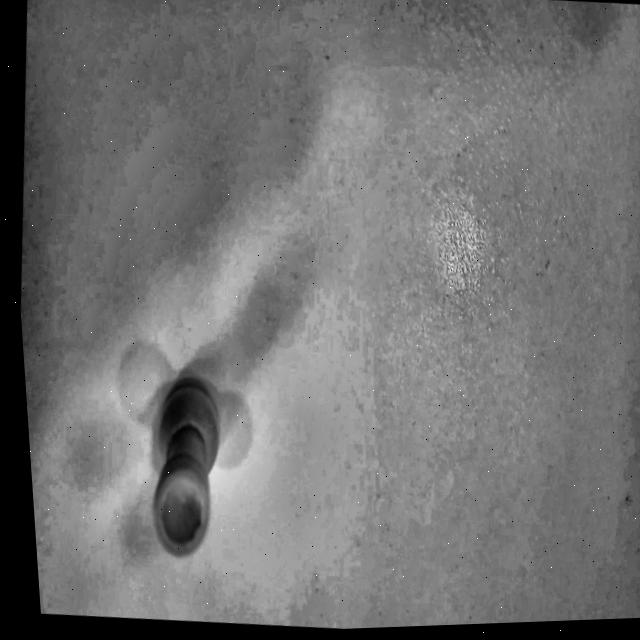white-rook: (120, 346, 249, 555)
